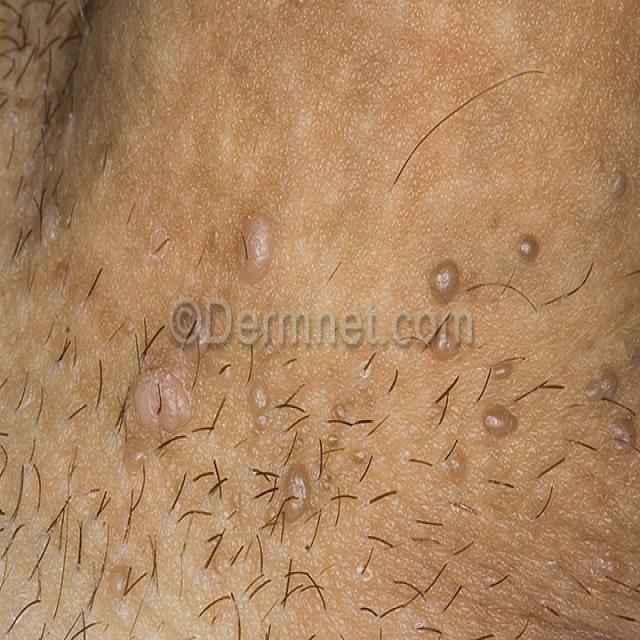Shingles: (125, 366, 197, 441), (238, 208, 276, 283), (276, 460, 314, 521), (584, 367, 618, 406), (426, 257, 459, 296), (247, 378, 271, 428), (434, 327, 464, 365), (485, 404, 517, 436), (611, 414, 634, 456), (518, 229, 545, 262), (488, 359, 513, 382)
